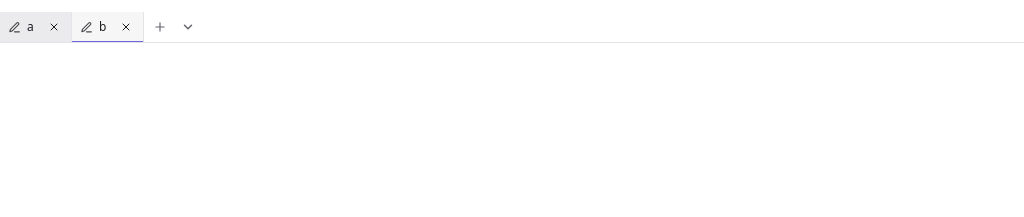
TabStrip › phase 3 › context menu: right click and Shift+F10 open it for that tab
This screenshot has width=1024, height=217.
Right-click the tab with test id "vault-tab" showing "a" at (36,27), box [0,12,72,42]
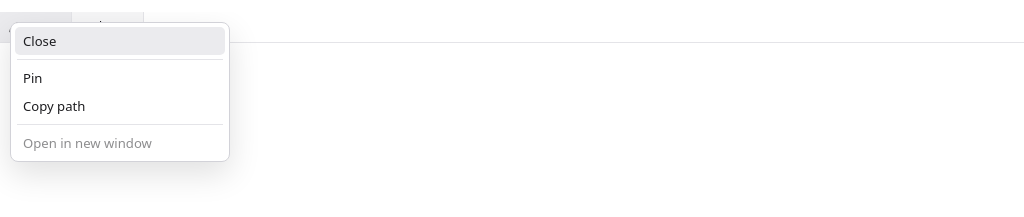
Click the menu item with test id "vault-tab-menu-pin" at (120,78), box [15,64,225,92]
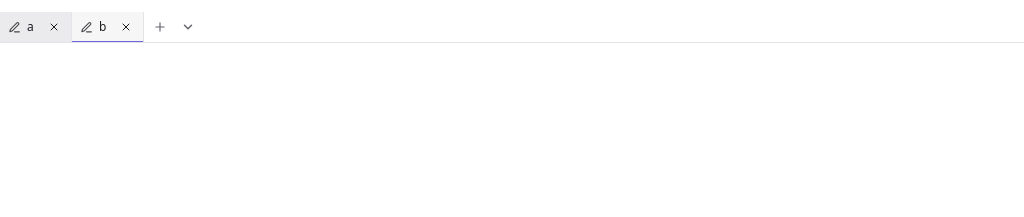
Check: the menu with test id "vault-tab-menu" is gone
Press F10 in the tab with test id "vault-tab" showing "b", box [72,12,144,42]
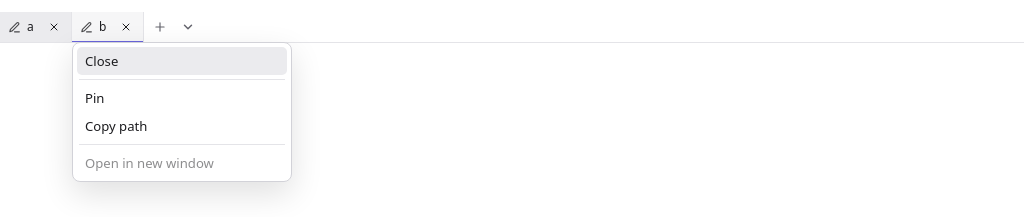
Click the menu item with test id "vault-tab-menu-copyPath" at (182,126), box [77,112,287,140]
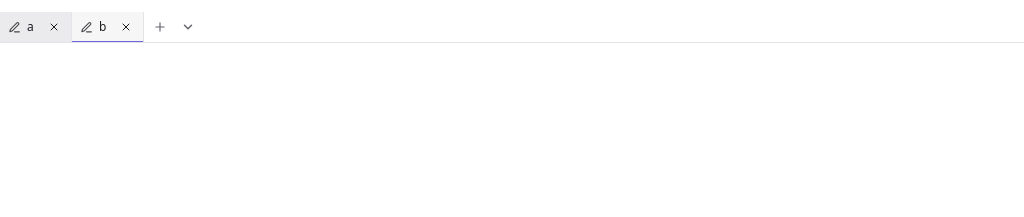
Press ContextMenu in the tab with test id "vault-tab" showing "b", box [72,12,144,42]
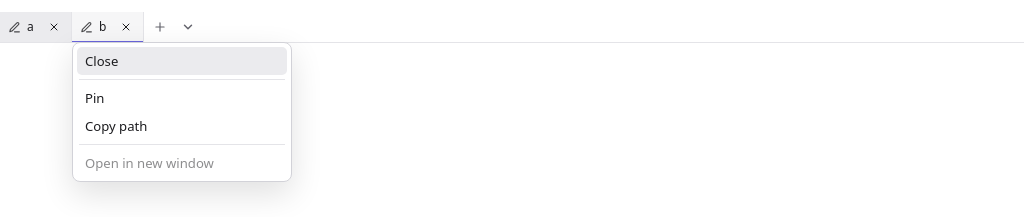
Check: the menu with test id "vault-tab-menu" is shown, box [72,42,292,182]
Press Escape
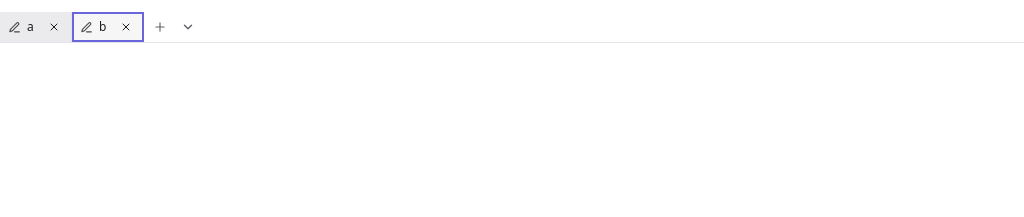
Check: the menu with test id "vault-tab-menu" is gone
